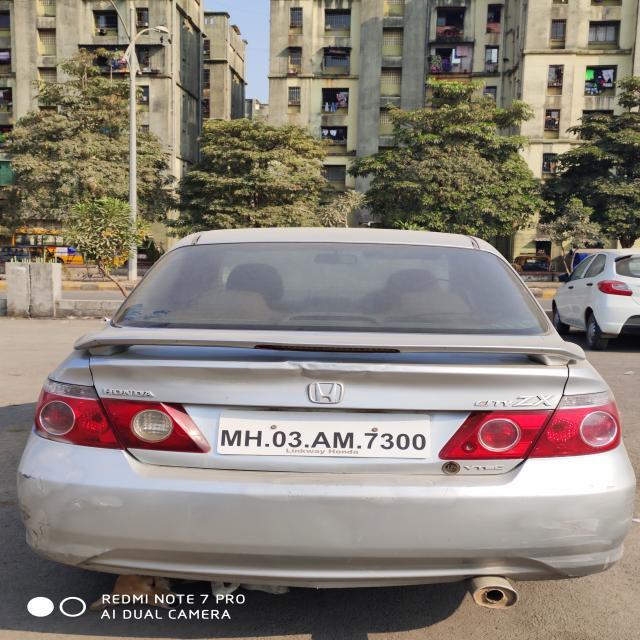Number-Plate: (214, 420, 433, 455)
